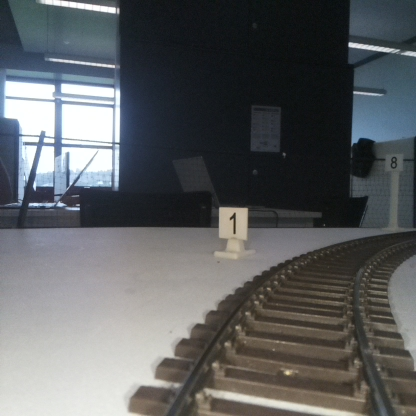white-stop-1: (218, 206, 247, 257)
